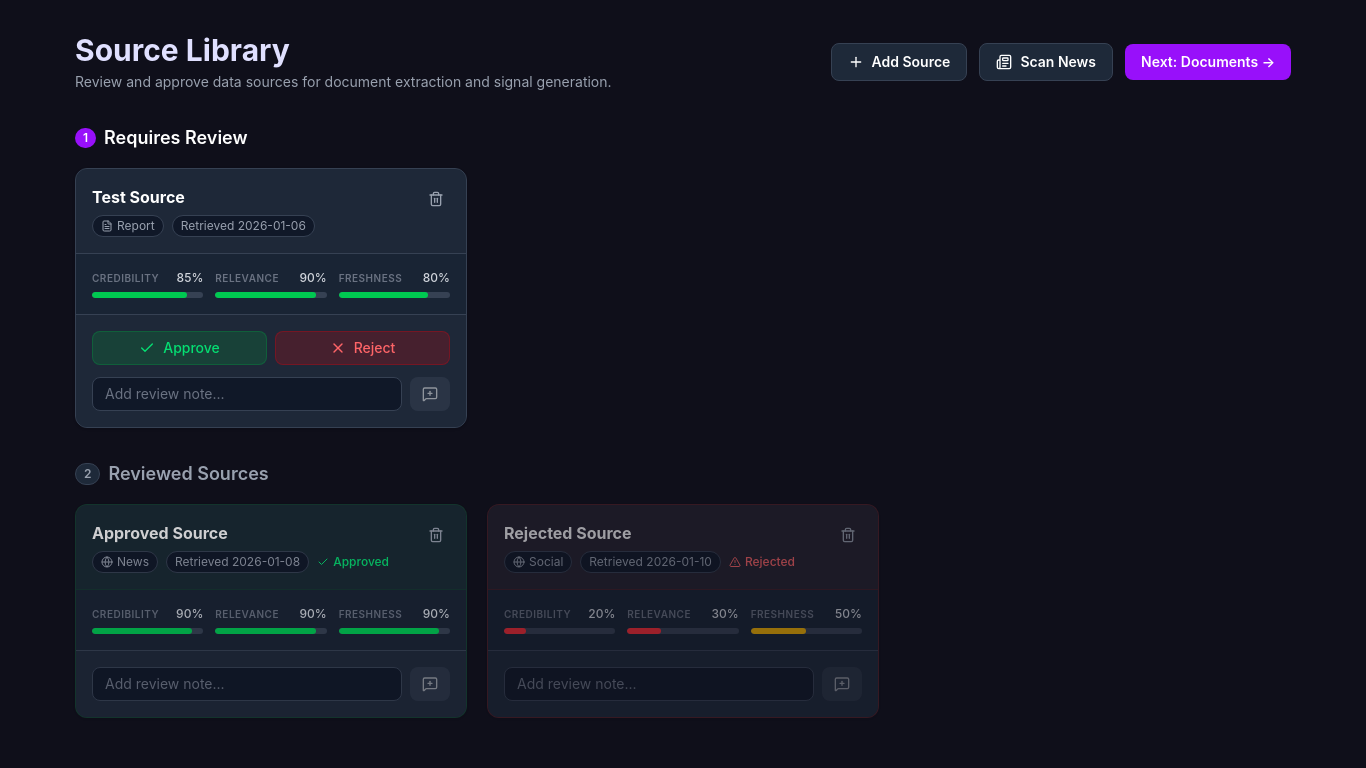
Test case: SourceLibrary component › rejects a source and changes status
This screenshot has width=1366, height=768.
Click the button "Reject" at [362, 348], box [275,331,450,365]
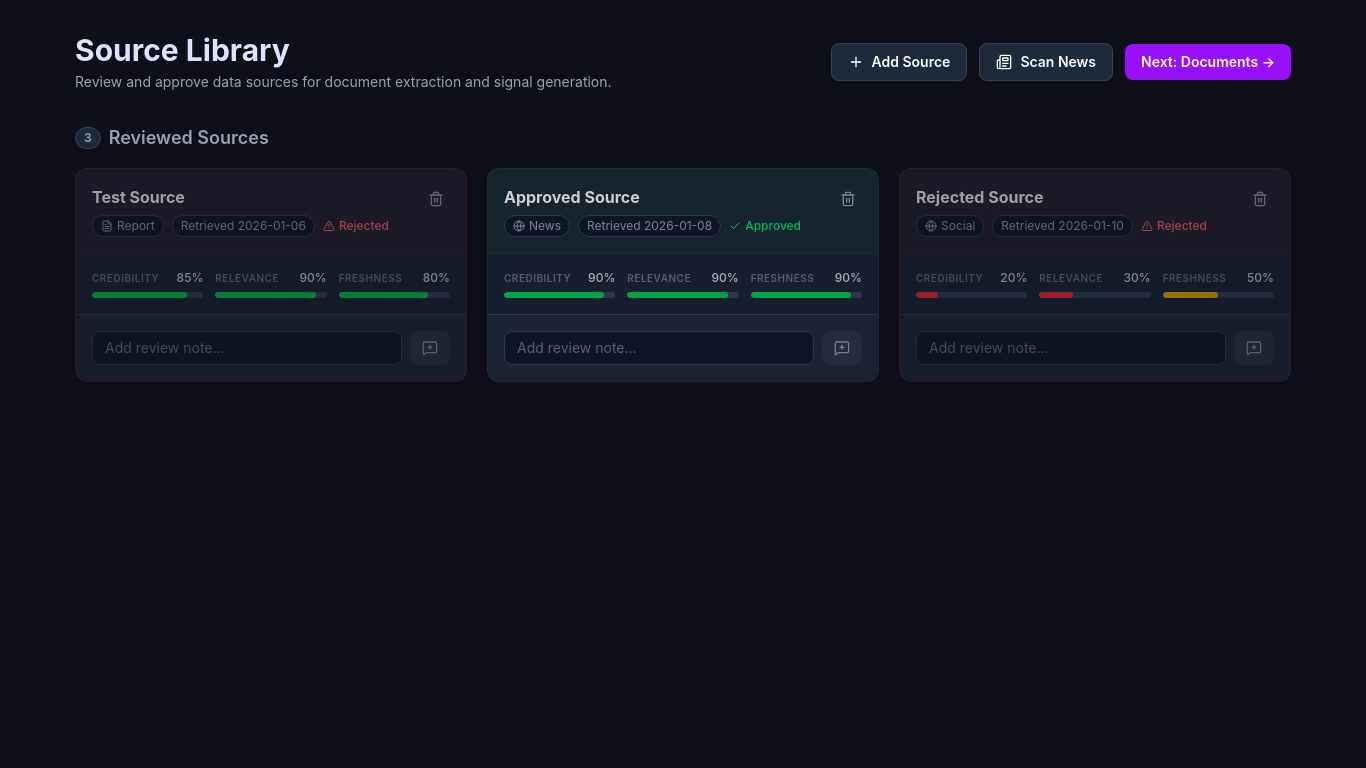
Expected: the text "Test Source" shows "Rejected", [339,218,389,233]
